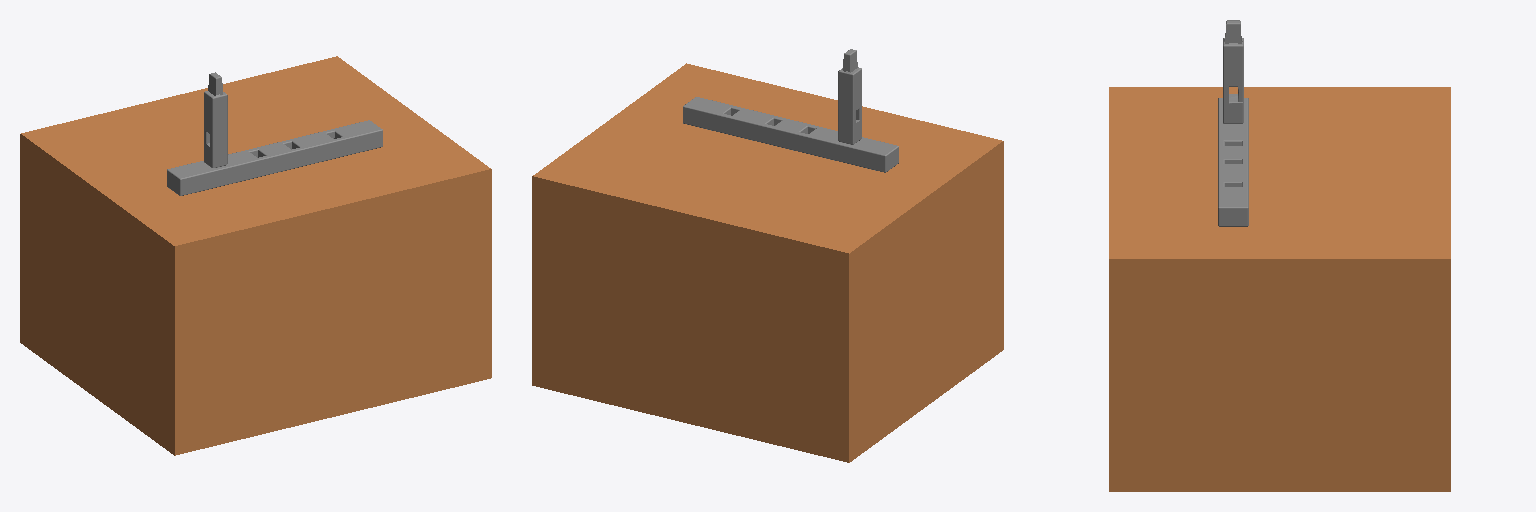
robot.urdf — table_beam_2x_0_scene_0007:
<?xml version="1.0"?>
<robot name="table_beam_2x_0_scene_0007">
  <link name="box">
    <visual>
      <material name="wood"><color rgba="0.82 0.56 0.35 1.0"/></material>
      <origin xyz="0 0 0"/>
      <geometry><box size="0.475 0.4 0.3"/></geometry>
    </visual>
    <collision>
      <origin xyz="0 0 0"/>
      <geometry><box size="0.475 0.4 0.3"/></geometry>
    </collision>
    <inertial>
      <mass value="500"/>
      <friction value="1.0"/>
      <inertia ixx="1000.0" ixy="0.0" ixz="0.0" iyy="1000.0" iyz="0.0" izz="1000.0"/>
    </inertial>
  </link>
  <link name="part_6_canonical">
    <visual>
      <origin xyz="0 0 0" rpy="0 0 0"/>
      <geometry><mesh filename="../../6/6_canonical.obj" scale="1 1 1"/></geometry>
      <material name="placed_0"><color rgba="0.6 0.6 0.6 1.0"/></material>
    </visual>
    <collision>
      <origin xyz="0 0 0" rpy="0 0 0"/>
      <geometry><mesh filename="../../6/6_canonical.obj" scale="1 1 1"/></geometry>
    </collision>
  </link>
  <joint name="part_6_canonical_joint" type="fixed">
    <parent link="box"/>
    <child link="part_6_canonical"/>
    <origin xyz="-0.003005 -0.054461 0.162666" rpy="0.000000 0.000000 0.000000"/>
  </joint>
  <link name="part_2_hull_0">
    <visual>
      <origin xyz="0 0 0" rpy="0 0 0"/>
      <geometry><mesh filename="../../2/coacd/decomp_0.obj" scale="1 1 1"/></geometry>
      <material name="placed_1"><color rgba="0.6 0.6 0.6 1.0"/></material>
    </visual>
    <collision>
      <origin xyz="0 0 0" rpy="0 0 0"/>
      <geometry><mesh filename="../../2/coacd/decomp_0.obj" scale="1 1 1"/></geometry>
    </collision>
  </link>
  <joint name="part_2_hull_0_joint" type="fixed">
    <parent link="box"/>
    <child link="part_2_hull_0"/>
    <origin xyz="-0.091931 -0.054461 0.225384" rpy="0.000000 -1.570796 0.000000"/>
  </joint>
  <link name="part_2_hull_1">
    <visual>
      <origin xyz="0 0 0" rpy="0 0 0"/>
      <geometry><mesh filename="../../2/coacd/decomp_1.obj" scale="1 1 1"/></geometry>
      <material name="placed_2"><color rgba="0.6 0.6 0.6 1.0"/></material>
    </visual>
    <collision>
      <origin xyz="0 0 0" rpy="0 0 0"/>
      <geometry><mesh filename="../../2/coacd/decomp_1.obj" scale="1 1 1"/></geometry>
    </collision>
  </link>
  <joint name="part_2_hull_1_joint" type="fixed">
    <parent link="box"/>
    <child link="part_2_hull_1"/>
    <origin xyz="-0.091931 -0.054461 0.225384" rpy="0.000000 -1.570796 0.000000"/>
  </joint>
  <link name="part_2_hull_2">
    <visual>
      <origin xyz="0 0 0" rpy="0 0 0"/>
      <geometry><mesh filename="../../2/coacd/decomp_10.obj" scale="1 1 1"/></geometry>
      <material name="placed_3"><color rgba="0.6 0.6 0.6 1.0"/></material>
    </visual>
    <collision>
      <origin xyz="0 0 0" rpy="0 0 0"/>
      <geometry><mesh filename="../../2/coacd/decomp_10.obj" scale="1 1 1"/></geometry>
    </collision>
  </link>
  <joint name="part_2_hull_2_joint" type="fixed">
    <parent link="box"/>
    <child link="part_2_hull_2"/>
    <origin xyz="-0.091931 -0.054461 0.225384" rpy="0.000000 -1.570796 0.000000"/>
  </joint>
  <link name="part_2_hull_3">
    <visual>
      <origin xyz="0 0 0" rpy="0 0 0"/>
      <geometry><mesh filename="../../2/coacd/decomp_11.obj" scale="1 1 1"/></geometry>
      <material name="placed_4"><color rgba="0.6 0.6 0.6 1.0"/></material>
    </visual>
    <collision>
      <origin xyz="0 0 0" rpy="0 0 0"/>
      <geometry><mesh filename="../../2/coacd/decomp_11.obj" scale="1 1 1"/></geometry>
    </collision>
  </link>
  <joint name="part_2_hull_3_joint" type="fixed">
    <parent link="box"/>
    <child link="part_2_hull_3"/>
    <origin xyz="-0.091931 -0.054461 0.225384" rpy="0.000000 -1.570796 0.000000"/>
  </joint>
  <link name="part_2_hull_4">
    <visual>
      <origin xyz="0 0 0" rpy="0 0 0"/>
      <geometry><mesh filename="../../2/coacd/decomp_12.obj" scale="1 1 1"/></geometry>
      <material name="placed_5"><color rgba="0.6 0.6 0.6 1.0"/></material>
    </visual>
    <collision>
      <origin xyz="0 0 0" rpy="0 0 0"/>
      <geometry><mesh filename="../../2/coacd/decomp_12.obj" scale="1 1 1"/></geometry>
    </collision>
  </link>
  <joint name="part_2_hull_4_joint" type="fixed">
    <parent link="box"/>
    <child link="part_2_hull_4"/>
    <origin xyz="-0.091931 -0.054461 0.225384" rpy="0.000000 -1.570796 0.000000"/>
  </joint>
  <link name="part_2_hull_5">
    <visual>
      <origin xyz="0 0 0" rpy="0 0 0"/>
      <geometry><mesh filename="../../2/coacd/decomp_13.obj" scale="1 1 1"/></geometry>
      <material name="placed_6"><color rgba="0.6 0.6 0.6 1.0"/></material>
    </visual>
    <collision>
      <origin xyz="0 0 0" rpy="0 0 0"/>
      <geometry><mesh filename="../../2/coacd/decomp_13.obj" scale="1 1 1"/></geometry>
    </collision>
  </link>
  <joint name="part_2_hull_5_joint" type="fixed">
    <parent link="box"/>
    <child link="part_2_hull_5"/>
    <origin xyz="-0.091931 -0.054461 0.225384" rpy="0.000000 -1.570796 0.000000"/>
  </joint>
  <link name="part_2_hull_6">
    <visual>
      <origin xyz="0 0 0" rpy="0 0 0"/>
      <geometry><mesh filename="../../2/coacd/decomp_14.obj" scale="1 1 1"/></geometry>
      <material name="placed_7"><color rgba="0.6 0.6 0.6 1.0"/></material>
    </visual>
    <collision>
      <origin xyz="0 0 0" rpy="0 0 0"/>
      <geometry><mesh filename="../../2/coacd/decomp_14.obj" scale="1 1 1"/></geometry>
    </collision>
  </link>
  <joint name="part_2_hull_6_joint" type="fixed">
    <parent link="box"/>
    <child link="part_2_hull_6"/>
    <origin xyz="-0.091931 -0.054461 0.225384" rpy="0.000000 -1.570796 0.000000"/>
  </joint>
  <link name="part_2_hull_7">
    <visual>
      <origin xyz="0 0 0" rpy="0 0 0"/>
      <geometry><mesh filename="../../2/coacd/decomp_15.obj" scale="1 1 1"/></geometry>
      <material name="placed_8"><color rgba="0.6 0.6 0.6 1.0"/></material>
    </visual>
    <collision>
      <origin xyz="0 0 0" rpy="0 0 0"/>
      <geometry><mesh filename="../../2/coacd/decomp_15.obj" scale="1 1 1"/></geometry>
    </collision>
  </link>
  <joint name="part_2_hull_7_joint" type="fixed">
    <parent link="box"/>
    <child link="part_2_hull_7"/>
    <origin xyz="-0.091931 -0.054461 0.225384" rpy="0.000000 -1.570796 0.000000"/>
  </joint>
  <link name="part_2_hull_8">
    <visual>
      <origin xyz="0 0 0" rpy="0 0 0"/>
      <geometry><mesh filename="../../2/coacd/decomp_2.obj" scale="1 1 1"/></geometry>
      <material name="placed_9"><color rgba="0.6 0.6 0.6 1.0"/></material>
    </visual>
    <collision>
      <origin xyz="0 0 0" rpy="0 0 0"/>
      <geometry><mesh filename="../../2/coacd/decomp_2.obj" scale="1 1 1"/></geometry>
    </collision>
  </link>
  <joint name="part_2_hull_8_joint" type="fixed">
    <parent link="box"/>
    <child link="part_2_hull_8"/>
    <origin xyz="-0.091931 -0.054461 0.225384" rpy="0.000000 -1.570796 0.000000"/>
  </joint>
  <link name="part_2_hull_9">
    <visual>
      <origin xyz="0 0 0" rpy="0 0 0"/>
      <geometry><mesh filename="../../2/coacd/decomp_3.obj" scale="1 1 1"/></geometry>
      <material name="placed_10"><color rgba="0.6 0.6 0.6 1.0"/></material>
    </visual>
    <collision>
      <origin xyz="0 0 0" rpy="0 0 0"/>
      <geometry><mesh filename="../../2/coacd/decomp_3.obj" scale="1 1 1"/></geometry>
    </collision>
  </link>
  <joint name="part_2_hull_9_joint" type="fixed">
    <parent link="box"/>
    <child link="part_2_hull_9"/>
    <origin xyz="-0.091931 -0.054461 0.225384" rpy="0.000000 -1.570796 0.000000"/>
  </joint>
  <link name="part_2_hull_10">
    <visual>
      <origin xyz="0 0 0" rpy="0 0 0"/>
      <geometry><mesh filename="../../2/coacd/decomp_4.obj" scale="1 1 1"/></geometry>
      <material name="placed_11"><color rgba="0.6 0.6 0.6 1.0"/></material>
    </visual>
    <collision>
      <origin xyz="0 0 0" rpy="0 0 0"/>
      <geometry><mesh filename="../../2/coacd/decomp_4.obj" scale="1 1 1"/></geometry>
    </collision>
  </link>
  <joint name="part_2_hull_10_joint" type="fixed">
    <parent link="box"/>
    <child link="part_2_hull_10"/>
    <origin xyz="-0.091931 -0.054461 0.225384" rpy="0.000000 -1.570796 0.000000"/>
  </joint>
  <link name="part_2_hull_11">
    <visual>
      <origin xyz="0 0 0" rpy="0 0 0"/>
      <geometry><mesh filename="../../2/coacd/decomp_5.obj" scale="1 1 1"/></geometry>
      <material name="placed_12"><color rgba="0.6 0.6 0.6 1.0"/></material>
    </visual>
    <collision>
      <origin xyz="0 0 0" rpy="0 0 0"/>
      <geometry><mesh filename="../../2/coacd/decomp_5.obj" scale="1 1 1"/></geometry>
    </collision>
  </link>
  <joint name="part_2_hull_11_joint" type="fixed">
    <parent link="box"/>
    <child link="part_2_hull_11"/>
    <origin xyz="-0.091931 -0.054461 0.225384" rpy="0.000000 -1.570796 0.000000"/>
  </joint>
  <link name="part_2_hull_12">
    <visual>
      <origin xyz="0 0 0" rpy="0 0 0"/>
      <geometry><mesh filename="../../2/coacd/decomp_6.obj" scale="1 1 1"/></geometry>
      <material name="placed_13"><color rgba="0.6 0.6 0.6 1.0"/></material>
    </visual>
    <collision>
      <origin xyz="0 0 0" rpy="0 0 0"/>
      <geometry><mesh filename="../../2/coacd/decomp_6.obj" scale="1 1 1"/></geometry>
    </collision>
  </link>
  <joint name="part_2_hull_12_joint" type="fixed">
    <parent link="box"/>
    <child link="part_2_hull_12"/>
    <origin xyz="-0.091931 -0.054461 0.225384" rpy="0.000000 -1.570796 0.000000"/>
  </joint>
  <link name="part_2_hull_13">
    <visual>
      <origin xyz="0 0 0" rpy="0 0 0"/>
      <geometry><mesh filename="../../2/coacd/decomp_7.obj" scale="1 1 1"/></geometry>
      <material name="placed_14"><color rgba="0.6 0.6 0.6 1.0"/></material>
    </visual>
    <collision>
      <origin xyz="0 0 0" rpy="0 0 0"/>
      <geometry><mesh filename="../../2/coacd/decomp_7.obj" scale="1 1 1"/></geometry>
    </collision>
  </link>
  <joint name="part_2_hull_13_joint" type="fixed">
    <parent link="box"/>
    <child link="part_2_hull_13"/>
    <origin xyz="-0.091931 -0.054461 0.225384" rpy="0.000000 -1.570796 0.000000"/>
  </joint>
  <link name="part_2_hull_14">
    <visual>
      <origin xyz="0 0 0" rpy="0 0 0"/>
      <geometry><mesh filename="../../2/coacd/decomp_8.obj" scale="1 1 1"/></geometry>
      <material name="placed_15"><color rgba="0.6 0.6 0.6 1.0"/></material>
    </visual>
    <collision>
      <origin xyz="0 0 0" rpy="0 0 0"/>
      <geometry><mesh filename="../../2/coacd/decomp_8.obj" scale="1 1 1"/></geometry>
    </collision>
  </link>
  <joint name="part_2_hull_14_joint" type="fixed">
    <parent link="box"/>
    <child link="part_2_hull_14"/>
    <origin xyz="-0.091931 -0.054461 0.225384" rpy="0.000000 -1.570796 0.000000"/>
  </joint>
  <link name="part_2_hull_15">
    <visual>
      <origin xyz="0 0 0" rpy="0 0 0"/>
      <geometry><mesh filename="../../2/coacd/decomp_9.obj" scale="1 1 1"/></geometry>
      <material name="placed_16"><color rgba="0.6 0.6 0.6 1.0"/></material>
    </visual>
    <collision>
      <origin xyz="0 0 0" rpy="0 0 0"/>
      <geometry><mesh filename="../../2/coacd/decomp_9.obj" scale="1 1 1"/></geometry>
    </collision>
  </link>
  <joint name="part_2_hull_15_joint" type="fixed">
    <parent link="box"/>
    <child link="part_2_hull_15"/>
    <origin xyz="-0.091931 -0.054461 0.225384" rpy="0.000000 -1.570796 0.000000"/>
  </joint>
</robot>

--- Render facts (derived) ---
3 views of the same robot in one strip: view 1: azimuth 30°, elevation 25°; view 2: azimuth 150°, elevation 25°; view 3: azimuth 270°, elevation 25° (orthographic).
Model table_beam_2x_0_scene_0007 with 18 links and 17 joints (17 fixed), rooted at box, posed all joints at 0.
Visible links, largest first — view 1: box, part_6_canonical; view 2: box, part_6_canonical; view 3: box, part_6_canonical.
Boxes of the visible links, x1,y1,x2,y2 form: box: (20,56,491,455); part_6_canonical: (167,120,382,195); box: (532,63,1003,462); part_6_canonical: (683,97,898,172); box: (1109,87,1450,491); part_6_canonical: (1218,98,1248,226).
Size in the robot's own frame: 0.475 by 0.4 by 0.4524 metres.
Meshes: 17 distinct files referenced, 17 mesh visuals loaded (17 OBJ).
